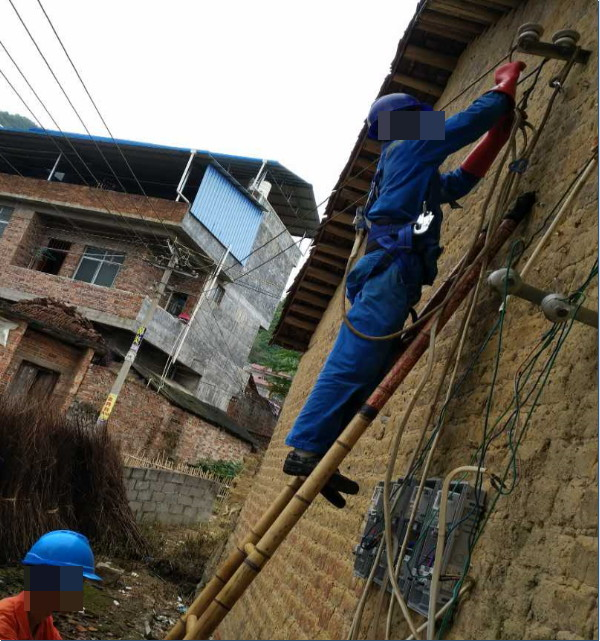downcloth: (290, 262, 419, 452)
halt: (18, 529, 104, 613), (369, 92, 434, 137)
longglove: (455, 114, 514, 181), (490, 58, 526, 99)
outear: (35, 574, 64, 604)
person: (277, 57, 526, 510), (1, 525, 112, 639)
safebelt: (331, 130, 515, 355)
upcloth: (364, 89, 509, 241)
